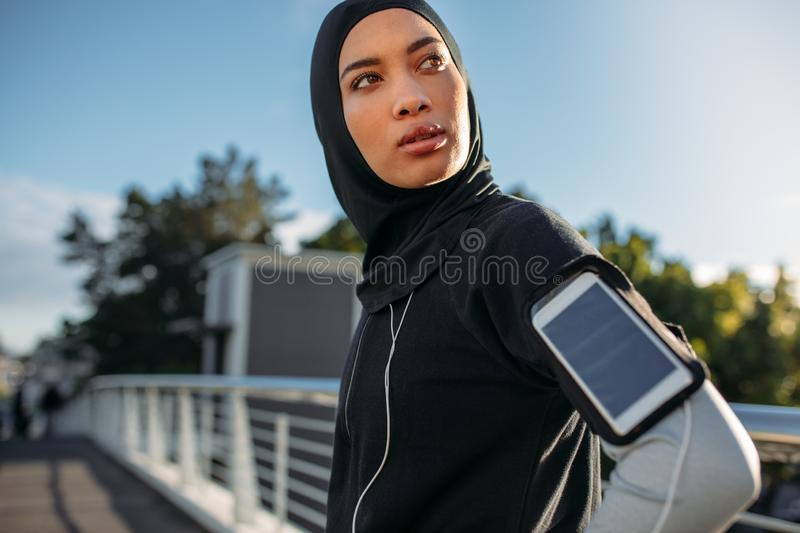No Mask: (322, 7, 535, 226)
